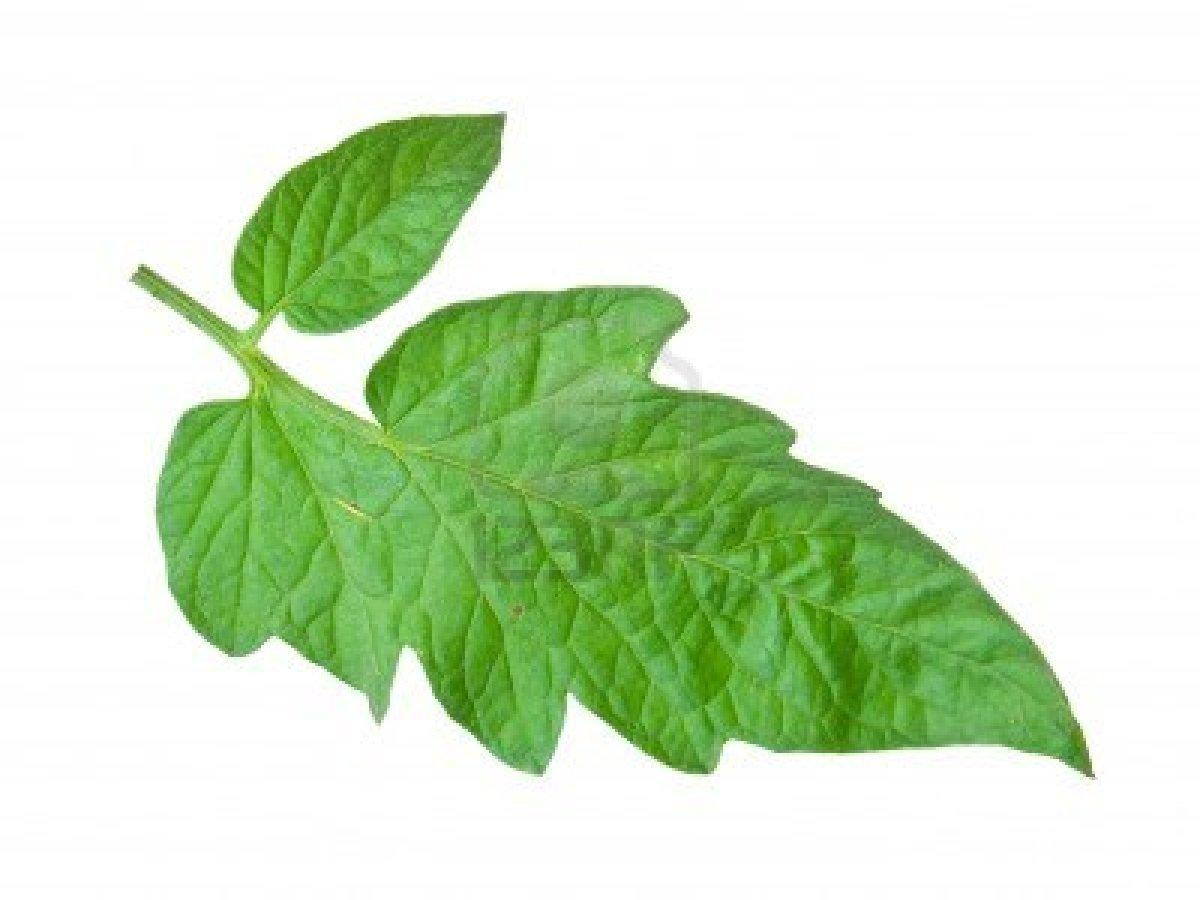Tomato leaf: (102, 281, 1142, 818), (229, 78, 548, 335)
